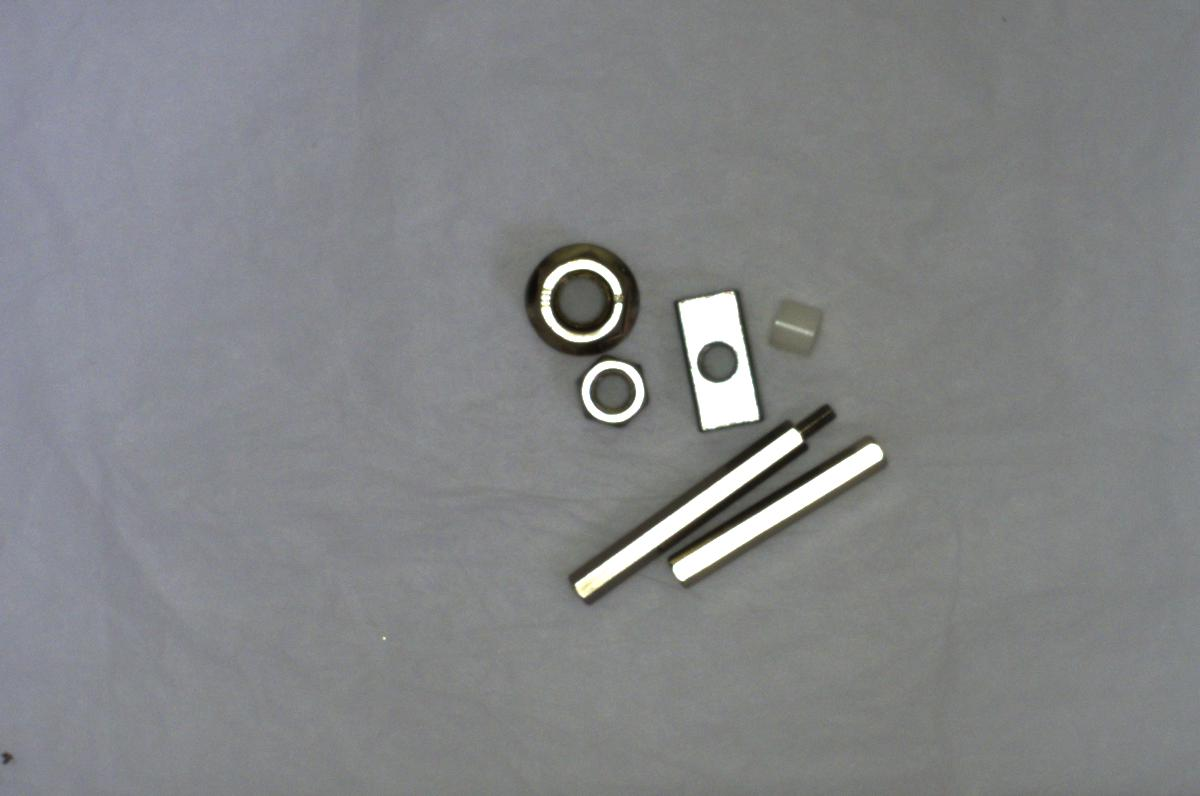Flange nut: (518, 234, 640, 359)
Hexagon nut: (572, 355, 646, 426)
Hexagonal steel column: (559, 403, 838, 608)
Plastic cushion pillar: (760, 292, 831, 362)
Rectangular nut: (673, 278, 767, 438)
Spring washer: (665, 432, 890, 580)
